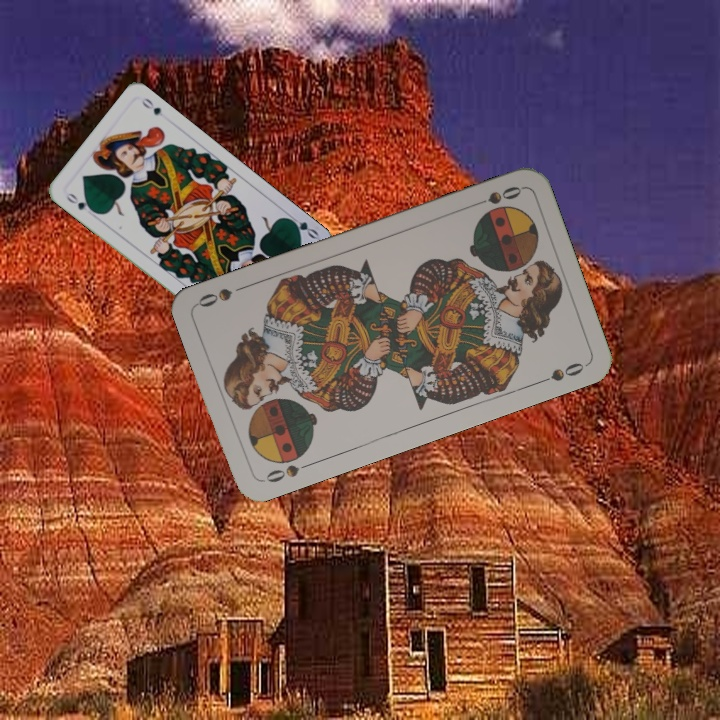GO: (283, 210, 321, 241), (62, 189, 98, 215)
SO: (257, 458, 315, 486), (467, 182, 524, 210)
